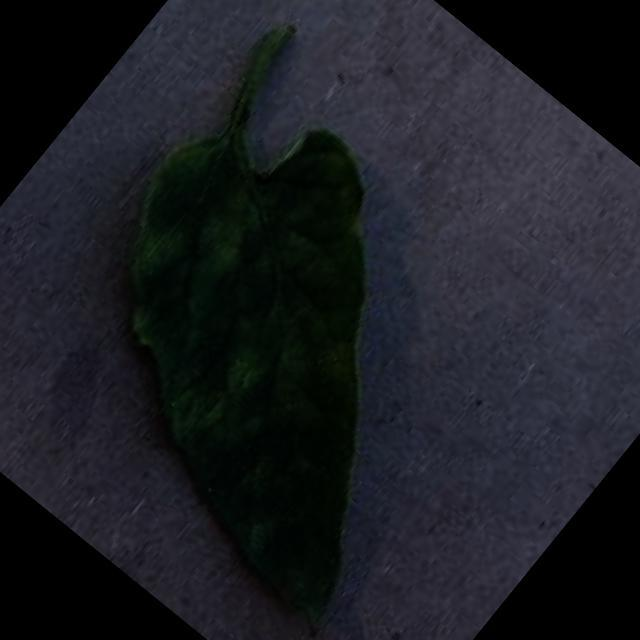Tomato mold leaf: (0, 67, 563, 638)
